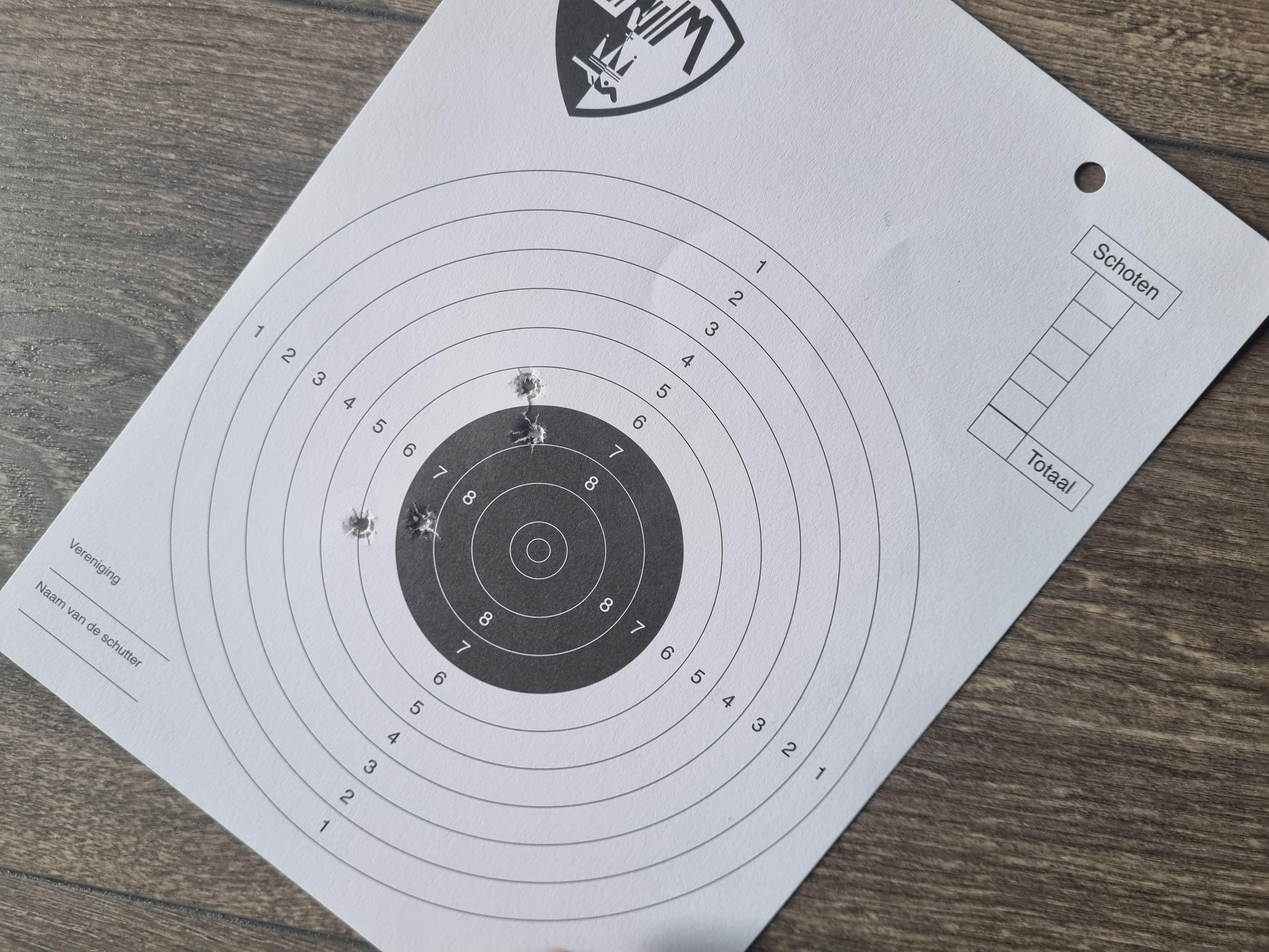hole: (543, 302, 596, 334), (666, 381, 717, 414), (541, 256, 594, 286), (730, 382, 779, 412)
